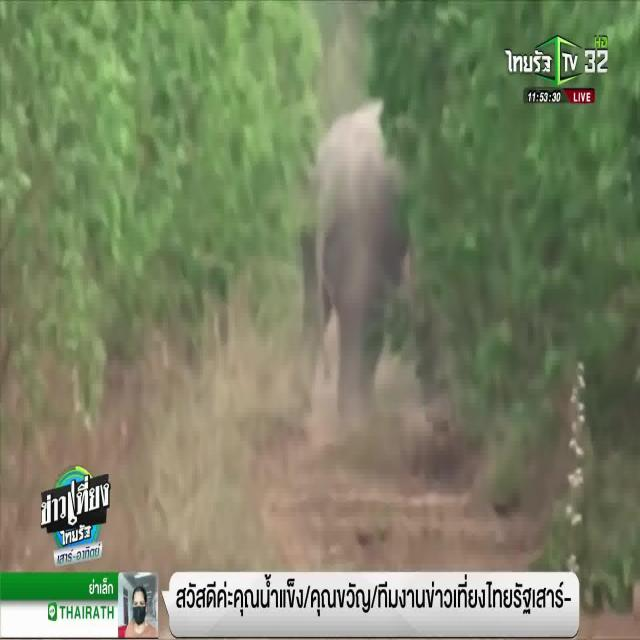Elephant: (306, 105, 413, 409)
